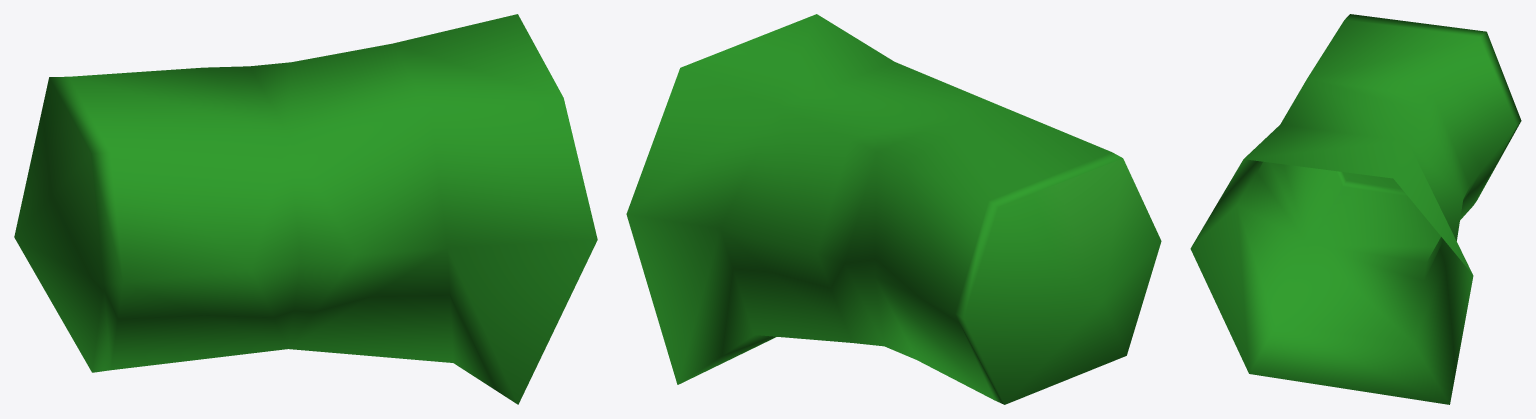
Rendered from YL_Brazo.obj.
3 views of the same model, side by side, from view 1: azimuth 30°, elevation 25°; view 2: azimuth 150°, elevation 25°; view 3: azimuth 270°, elevation 25° (orthographic). The views are drawn at different scales.
Parts seen in each view (by area): view 1: yoshi_brazoIz; view 2: yoshi_brazoIz; view 3: yoshi_brazoIz.
Part boxes in pixels (box(x1,y1,x2,y2)): yoshi_brazoIz: box(14, 14, 597, 404); yoshi_brazoIz: box(626, 14, 1161, 404); yoshi_brazoIz: box(1190, 14, 1521, 404).
Bounding box in the file's own units: 0.3084 × 0.1875 × 0.2353.
1 material, 1 textured.
